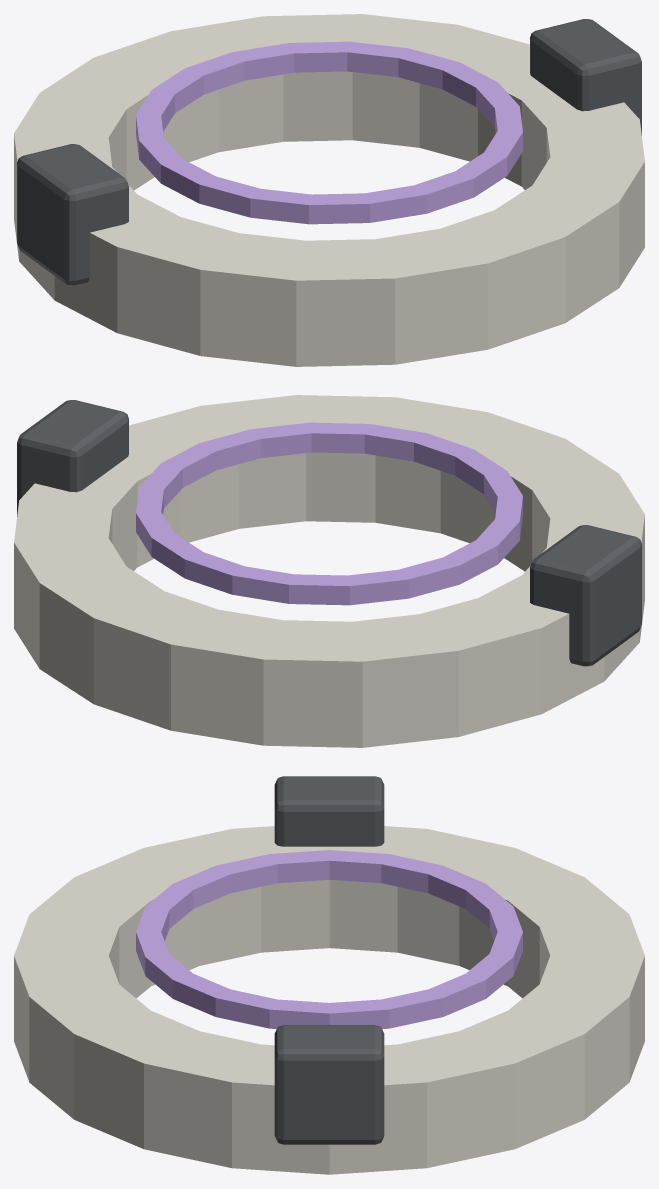
File: BlinkPickup.fbx
3 renders of one model, top to bottom at view 1: azimuth 30°, elevation 25°; view 2: azimuth 150°, elevation 25°; view 3: azimuth 270°, elevation 25°, orthographic.
Parts seen in each view (by area): view 1: BlinkOuter, BlinkInner, BlinkNotch, BlinkNotch.001; view 2: BlinkOuter, BlinkInner, BlinkNotch, BlinkNotch.001; view 3: BlinkOuter, BlinkInner, BlinkNotch.001, BlinkNotch.
Boxes of the visible parts, <box> form: BlinkOuter: <box>14,14,644,366</box>; BlinkInner: <box>136,41,522,224</box>; BlinkNotch: <box>17,144,128,285</box>; BlinkNotch.001: <box>530,19,641,135</box>; BlinkOuter: <box>14,395,644,747</box>; BlinkInner: <box>136,422,522,605</box>; BlinkNotch: <box>530,525,641,666</box>; BlinkNotch.001: <box>17,400,128,516</box>; BlinkOuter: <box>14,826,644,1174</box>; BlinkInner: <box>136,850,522,1028</box>; BlinkNotch.001: <box>274,1025,384,1144</box>; BlinkNotch: <box>274,776,384,846</box>.
Size of the model in its own units: 0.315 by 0.0675 by 0.3.
